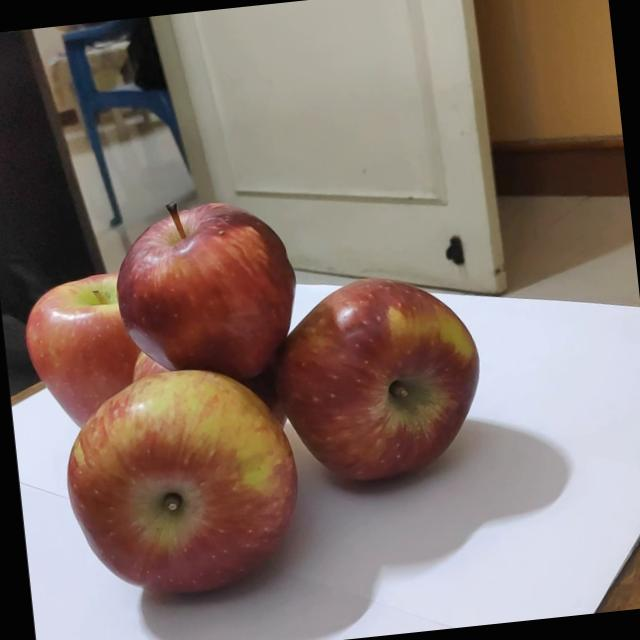apple: (258, 245, 514, 516), (84, 382, 290, 594), (108, 185, 307, 388), (0, 244, 180, 427)
